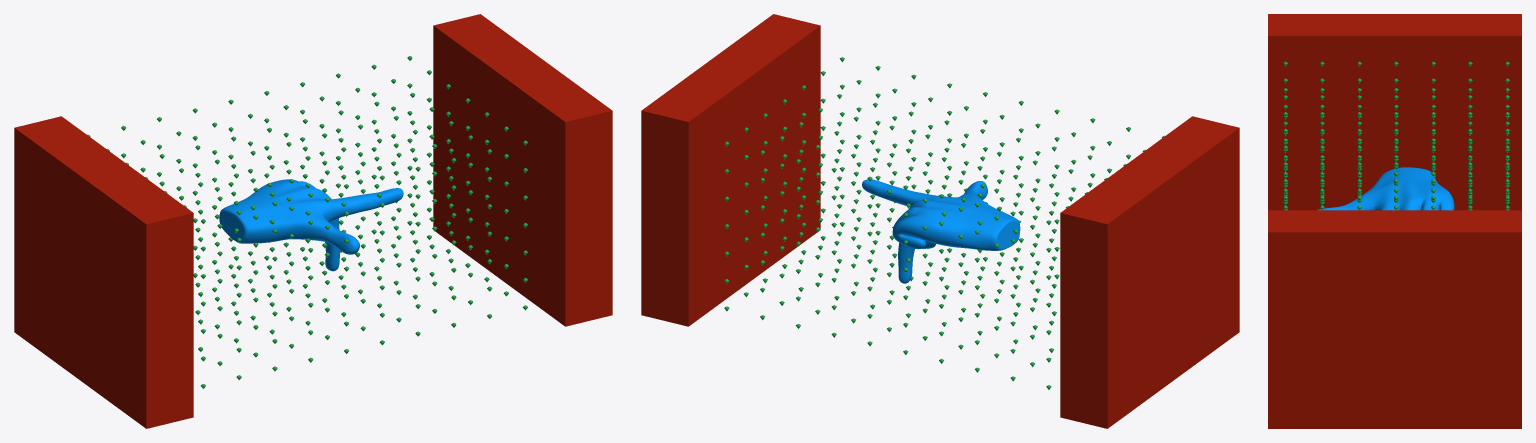
The model's file is bkp-modelo.glb.
The picture shows the model from 3 angles, left to right: view 1: azimuth 30°, elevation 25°; view 2: azimuth 150°, elevation 25°; view 3: azimuth 270°, elevation 25°; orthographic projection. The views are drawn at different scales.
Parts seen in each view (by area): view 1: magnet, field, hand; view 2: magnet, field, hand; view 3: magnet, hand, field.
Part boxes in pixels (x1,y1,x2,y2): magnet: (14,14,612,428); field: (87,56,527,388); hand: (219,179,403,271); magnet: (641,14,1239,428); field: (724,57,1164,389); hand: (862,179,1020,283); magnet: (1268,14,1521,428); hand: (1317,167,1454,210); field: (1283,61,1509,210).
Size of the model in its own units: 5.41 by 2.27 by 2.65.
